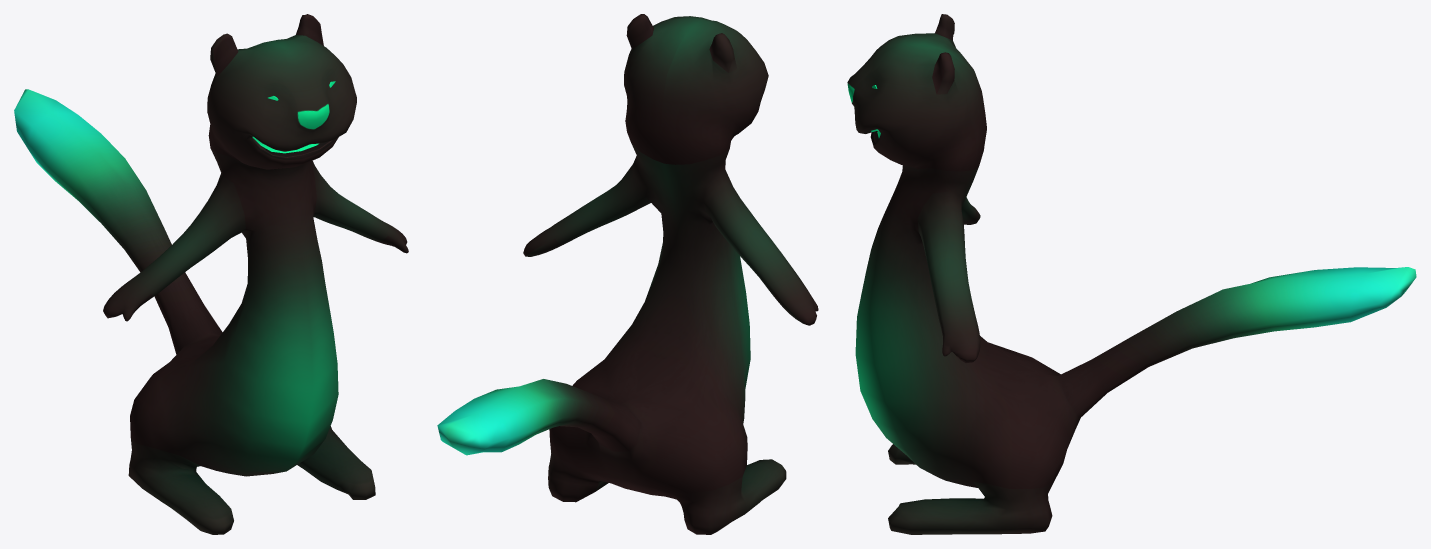
The model's file is SM_Chara_Yokai_Itachi.fbx.
The picture shows the model from 3 angles, left to right: view 1: azimuth 30°, elevation 25°; view 2: azimuth 150°, elevation 25°; view 3: azimuth 270°, elevation 25°; orthographic projection. The views are drawn at different scales.
Parts seen in each view (by area): view 1: SM_Chara_Yokai_Itachi; view 2: SM_Chara_Yokai_Itachi; view 3: SM_Chara_Yokai_Itachi.
Part boxes in pixels (x1,y1,x2,y2): SM_Chara_Yokai_Itachi: (14,14,408,534); SM_Chara_Yokai_Itachi: (437,14,818,534); SM_Chara_Yokai_Itachi: (847,14,1416,534).
Size of the model in its own units: 75 by 112 by 126.
